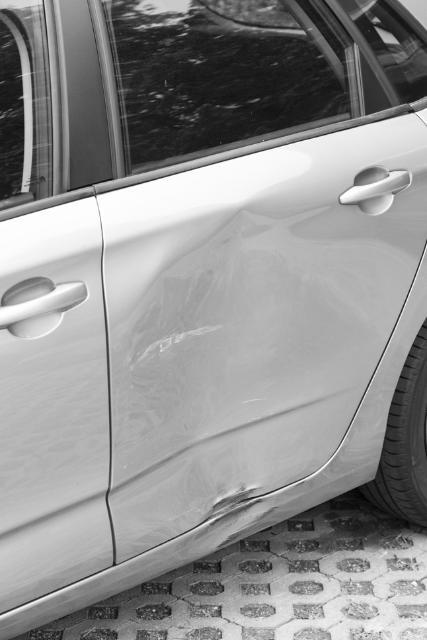Door: (113, 173, 402, 528)
